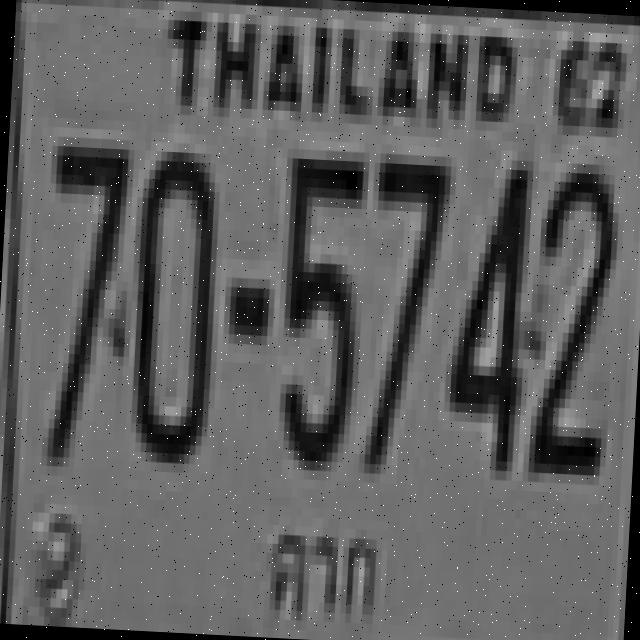0: (124, 146, 216, 460)
2: (526, 157, 618, 471)
4: (442, 152, 528, 466)
5: (272, 149, 364, 463)
7: (36, 136, 130, 460), (359, 144, 447, 467), (39, 141, 129, 408)
Tak: (258, 500, 388, 634)
